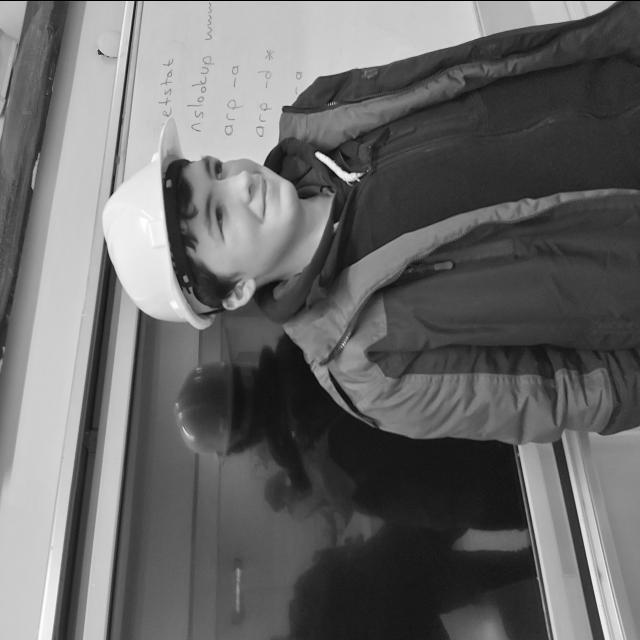safety_helmet: (103, 121, 218, 330)
